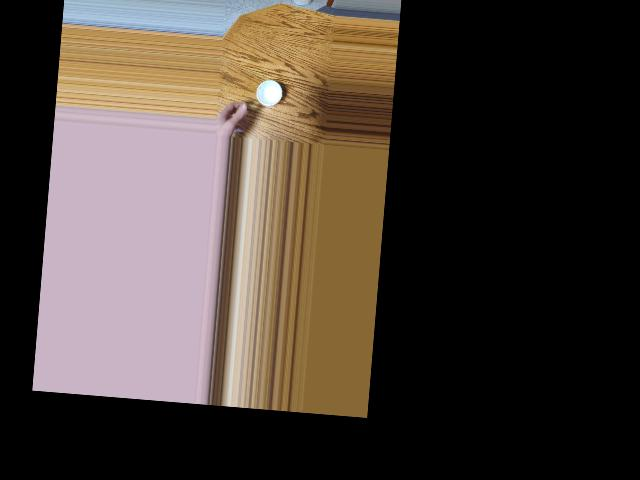cotage: (252, 78, 282, 110)
